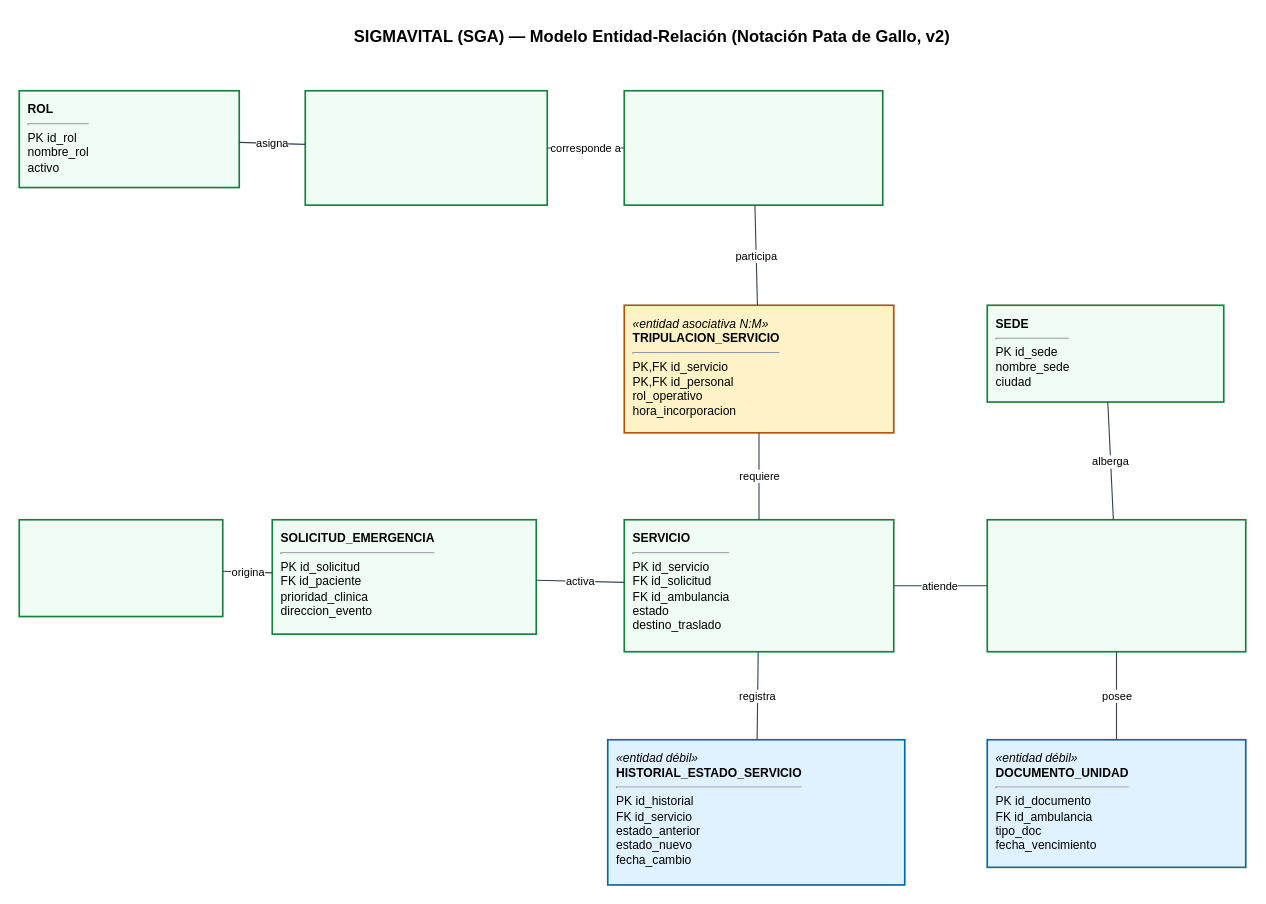
The diagram is 1266 pixels wide and 904 high, and some of its shapes have lost their labels. The centre of each missing label's shape, as x and y in pixels:
AMBULANCIA PK id_ambulancia FK id_sede placa tipo_unidad estado_operativo: point (1116, 585)
PACIENTE PK id_paciente documento nombre_completo: point (120, 567)
PERSONAL PK id_personal FK id_usuario tipo_cargo estado_disponibilidad: point (753, 147)
USUARIO PK id_usuario FK id_rol correo password_hash: point (426, 147)
